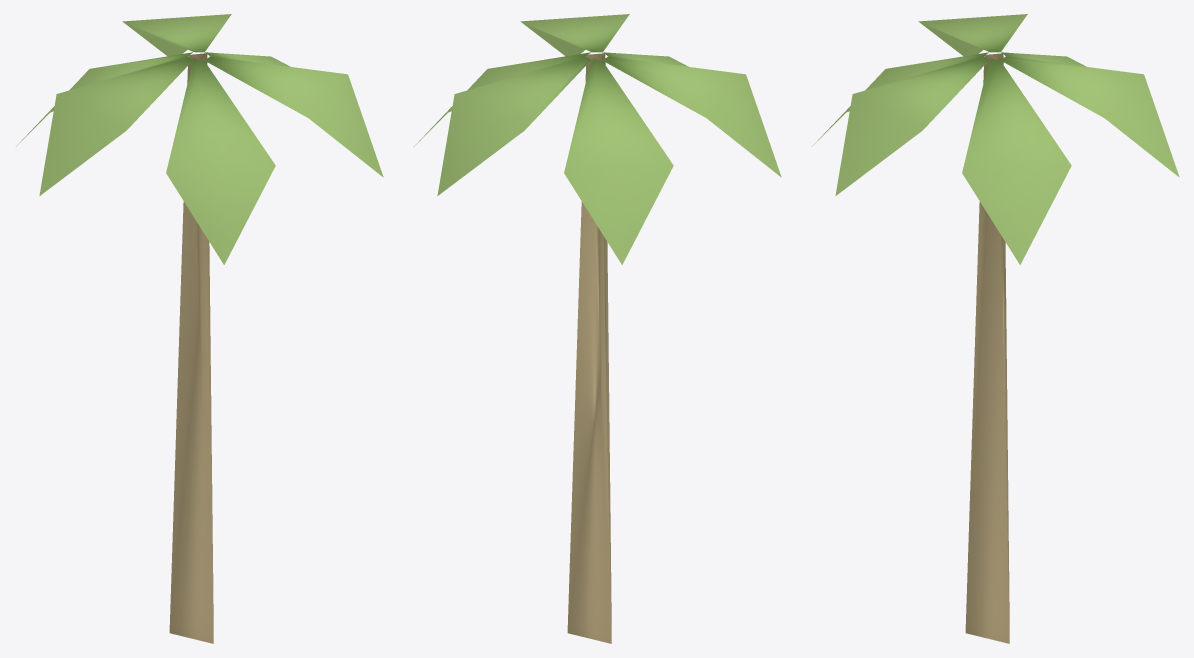
The picture shows the model from 3 angles, left to right: view 1: azimuth 30°, elevation 25°; view 2: azimuth 150°, elevation 25°; view 3: azimuth 270°, elevation 25°; orthographic projection.
Visible parts, largest first — view 1: LOD2Palmold; view 2: LOD2Palmold; view 3: LOD2Palmold.
Part boxes in pixels (x1,y1,x2,y2): LOD2Palmold: [16, 14, 383, 643]; LOD2Palmold: [413, 14, 781, 643]; LOD2Palmold: [812, 14, 1179, 643].
Bounding box in the file's own units: 11.53 × 18.45 × 10.71.
1 material, 1 textured.
